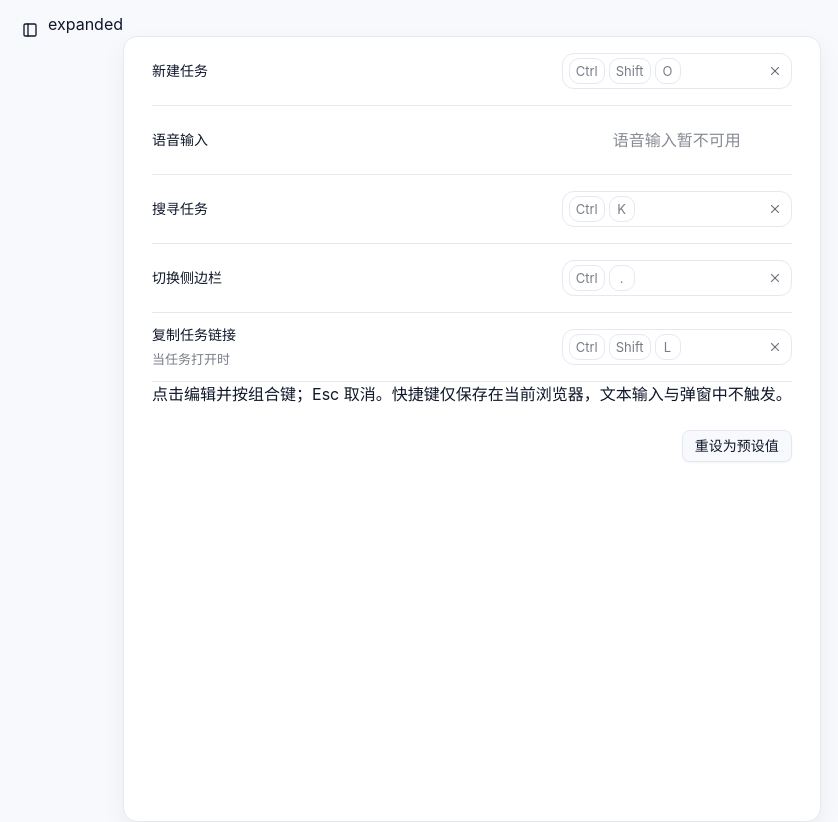
SET36 copy recording failure never claims saved or changes its previous binding
Click the button with aria-label "编辑复制任务链接快捷键" at (664, 347), box x1=569 y1=330 x2=759 y2=364
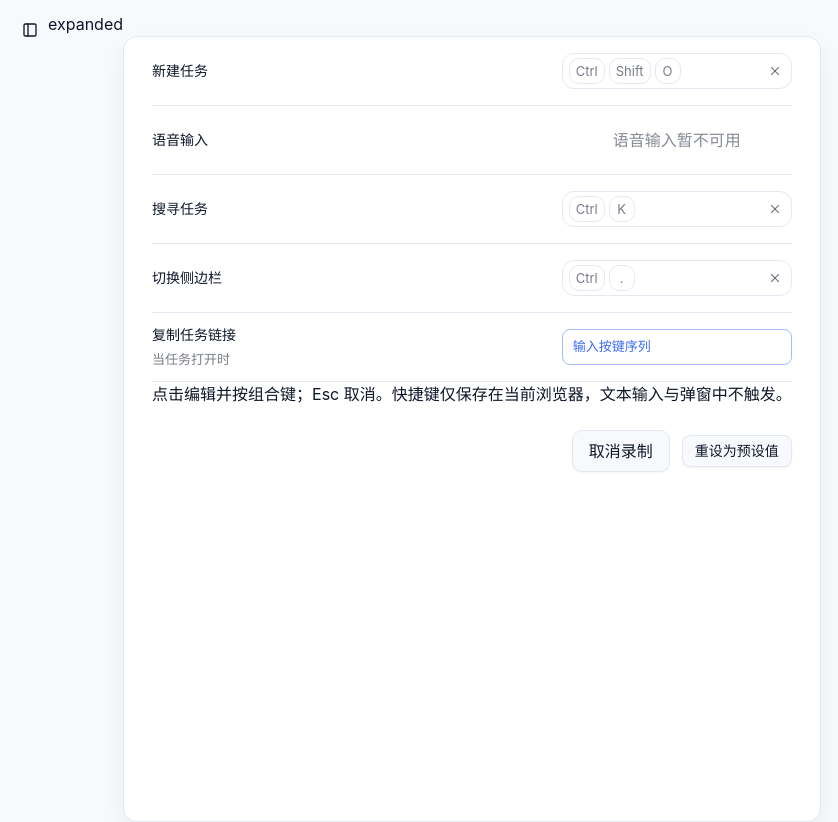
Press j
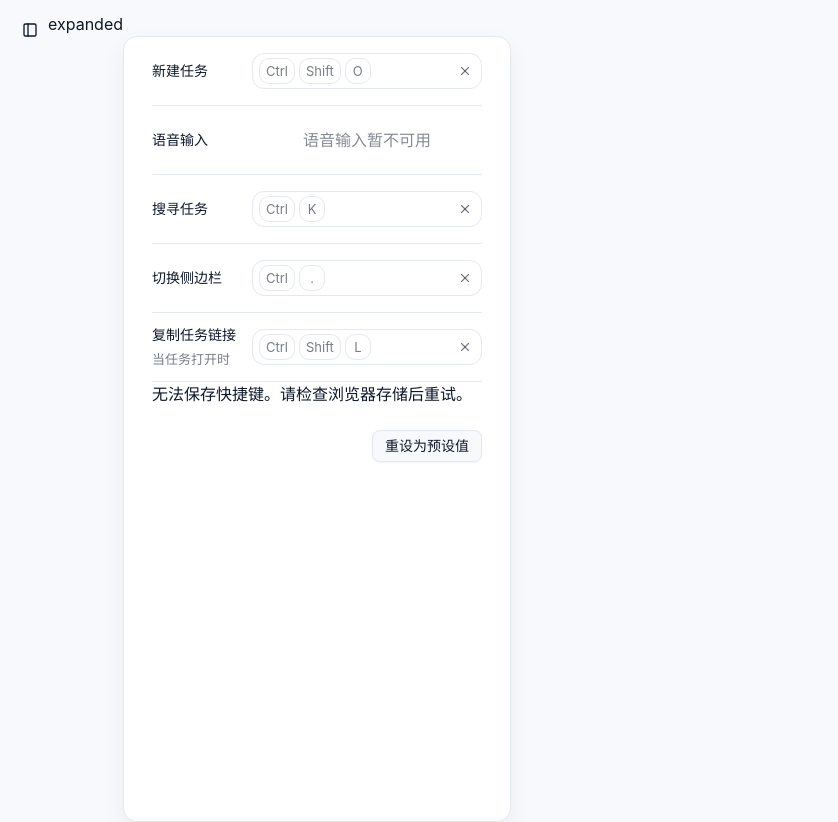
expect the message shows "无法保存": met, box x1=152 y1=384 x2=472 y2=404
